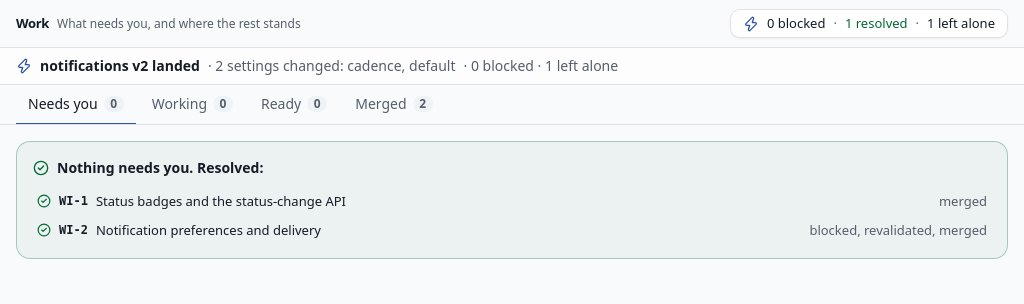
the home trays › ends with both in Merged, each saying who merged it
expect the text with test id "tray-count-merged" reads "2": met, box [419,95,426,112]
Click the tab "Merged 2".
click(394, 105)  # box [343,85,445,125]
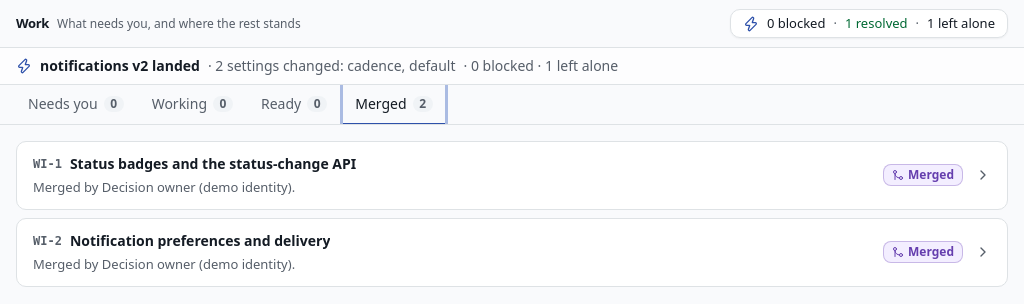
expect the text with test id "row-reason-WI-1" shows "Merged": met, box [33,178,295,196]
